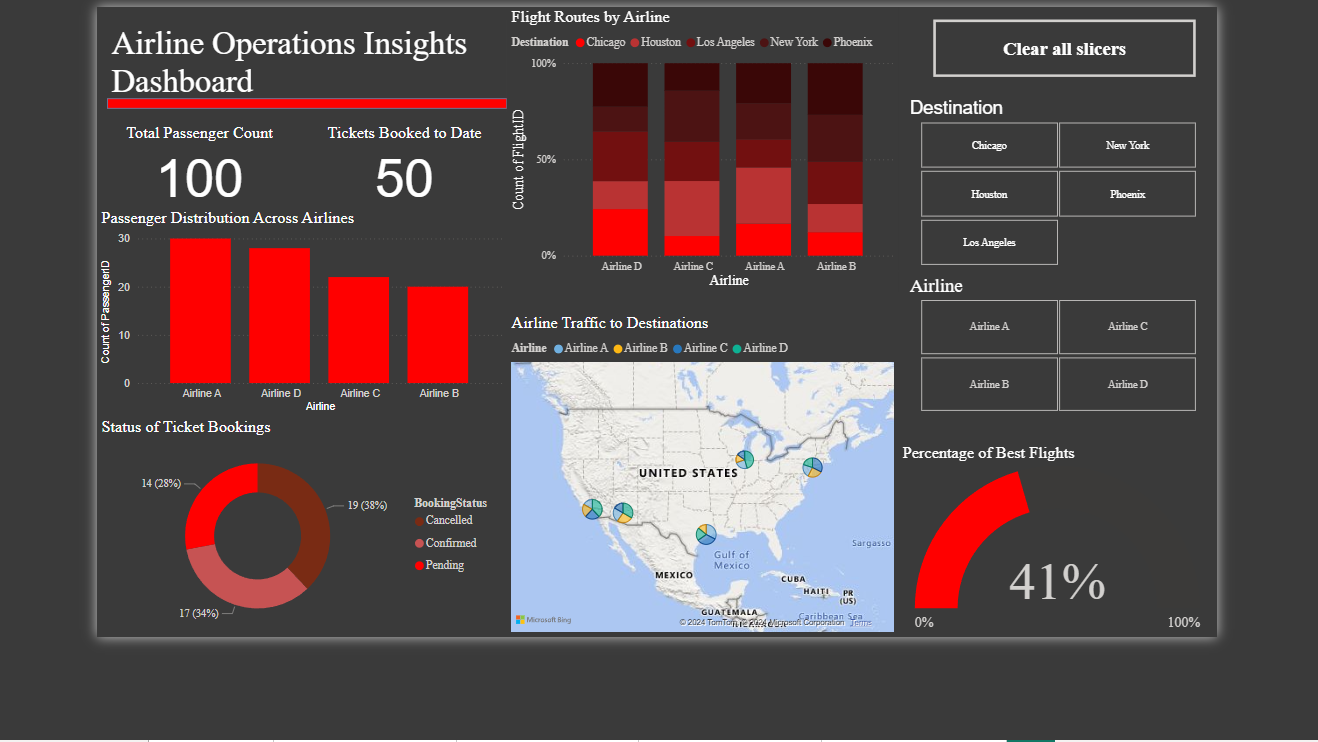

What the dashboard file says about the page in this screenshot:
{"tool":"powerbi","page":{"name":"Dashboard","canvas":[1280,720],"ordinal":0},"visuals":[{"type":"card","title":"Tickets Booked to Date","fields":{"Values":["ticket_information.TotalTicketsBooked"]},"box":[234.3,132.9,234.3,97.1],"z":0},{"type":"card","title":"Total Passenger Count","fields":{"Values":["passenger_information.TotalPassengersForFlight"]},"box":[0,132.9,234.3,97.1],"z":1000},{"type":"columnChart","title":"Passenger Distribution Across Airlines","fields":{"Category":["flight_information.Airline"],"Y":["CountNonNull(passenger_information.PassengerID)"]},"box":[0,230,468.6,238.6],"z":2000},{"type":"donutChart","title":"Status of Ticket Bookings","fields":{"Category":["ticket_information.BookingStatus"],"Y":["CountNonNull(ticket_information.FlightID)"]},"box":[0,468.6,468.6,251.4],"z":3000},{"type":"map","title":"Airline Traffic to Destinations","fields":{"Series":["flight_information.Airline"],"Category":["flight_information.Destination"],"Size":["CountNonNull(flight_information.FlightID)"]},"box":[468.6,350,447.1,370],"z":4000},{"type":"hundredPercentStackedColumnChart","title":"Flight Routes by Airline","fields":{"Category":["flight_information.Airline"],"Series":["flight_information.Destination"],"Y":["CountNonNull(flight_information.FlightID)"]},"box":[468.6,0,447.1,325.7],"z":5000},{"type":"gauge","title":"Percentage of Best Flights","fields":{"Y":["BestFlightsTable.PercentageBestFlights"]},"box":[915.7,498.6,364.3,221.4],"z":6000},{"type":"slicer","fields":{"Values":["flight_information.Airline"]},"box":[915.7,301.4,364.3,167.1],"z":7000},{"type":"slicer","fields":{"Values":["flight_information.Destination"]},"box":[915.7,98.6,364.3,202.9],"z":8000},{"type":"actionButton","box":[955.7,14.3,300,65.7],"z":9000},{"type":"textbox","box":[11.4,14.3,457.1,105.7],"z":10000},{"type":"shape","box":[11.4,104.3,457.1,12],"z":10001}]}

Visuals, with their boxes in screenshot pixels (x1, y1, x2, y2), scaled from the page's 1280x720 canvas onto the 1318x742 screenshot:
"Tickets Booked to Date" card: (left=241, top=137, right=483, bottom=237)
"Total Passenger Count" card: (left=0, top=137, right=241, bottom=237)
"Passenger Distribution Across Airlines" columnChart: (left=0, top=237, right=483, bottom=483)
"Status of Ticket Bookings" donutChart: (left=0, top=483, right=483, bottom=741)
"Airline Traffic to Destinations" map: (left=483, top=361, right=943, bottom=741)
"Flight Routes by Airline" hundredPercentStackedColumnChart: (left=483, top=0, right=943, bottom=336)
"Percentage of Best Flights" gauge: (left=943, top=514, right=1317, bottom=741)
slicer - flight_information.Airline: (left=943, top=311, right=1317, bottom=483)
slicer - flight_information.Destination: (left=943, top=102, right=1317, bottom=311)
actionButton: (left=984, top=15, right=1293, bottom=82)
textbox: (left=12, top=15, right=482, bottom=124)
shape: (left=12, top=107, right=482, bottom=120)
